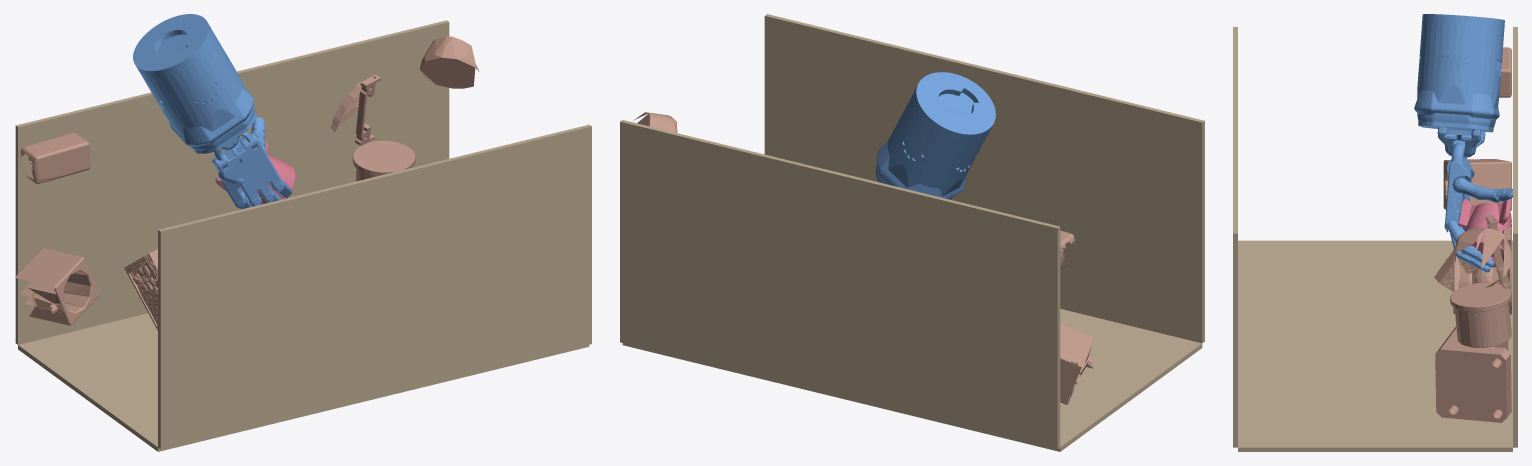
3 renders of one model, left to right at view 1: azimuth 30°, elevation 25°; view 2: azimuth 150°, elevation 25°; view 3: azimuth 270°, elevation 25°, orthographic. The views are drawn at different scales.
Visible parts, largest first — view 1: environment, hand, obstacle_002, obstacle_001, obstacle_008, obstacle_007, obstacle_000, obstacle_006, world, obstacle_003; view 2: environment, hand, obstacle_002; view 3: environment, hand, obstacle_005, obstacle_007, obstacle_002, world, obstacle_008, obstacle_004, obstacle_000, obstacle_001, obstacle_006.
Boxes of the visible parts, <box> form: environment: <box>15,20,591,451</box>; hand: <box>133,14,292,209</box>; obstacle_002: <box>15,248,99,325</box>; obstacle_001: <box>20,132,90,183</box>; obstacle_008: <box>419,36,479,88</box>; obstacle_007: <box>352,140,415,181</box>; obstacle_000: <box>124,249,157,330</box>; obstacle_006: <box>355,74,380,145</box>; world: <box>215,141,295,204</box>; obstacle_003: <box>330,81,368,131</box>; environment: <box>620,14,1204,451</box>; hand: <box>876,72,995,199</box>; obstacle_002: <box>1060,323,1093,404</box>; environment: <box>1233,27,1517,451</box>; hand: <box>1414,14,1512,272</box>; obstacle_005: <box>1435,326,1511,422</box>; obstacle_007: <box>1450,282,1511,347</box>; obstacle_002: <box>1443,159,1511,210</box>; world: <box>1458,198,1511,265</box>; obstacle_008: <box>1453,228,1511,287</box>; obstacle_004: <box>1453,254,1511,314</box>; obstacle_000: <box>1434,249,1476,291</box>; obstacle_001: <box>1499,47,1511,97</box>; obstacle_006: <box>1485,214,1511,288</box>.
Bounding box in the file's own units: 0.851 × 0.5525 × 0.4658.
